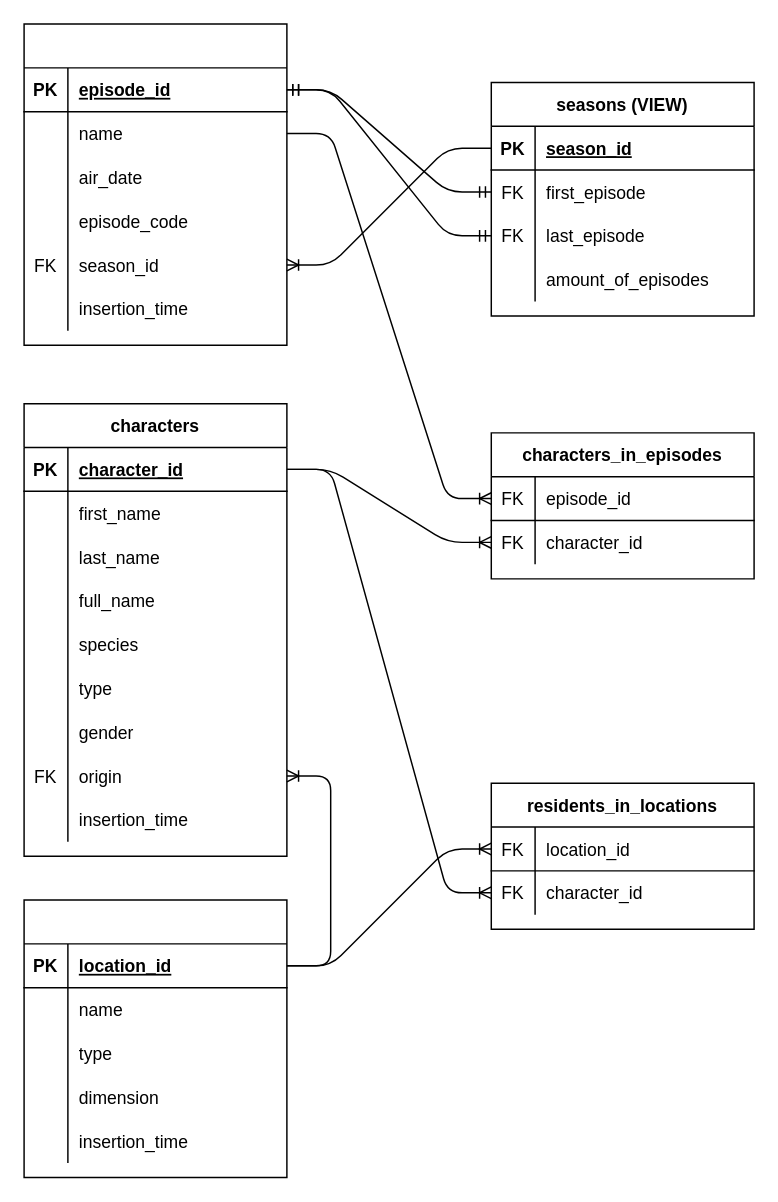
This 778x1202 diagram has some shape labels left out. Here are the shapes that lost their labels. From the top down, the box of each, then its label:
(23, 23, 287, 345): episodes
(23, 899, 287, 1177): locations
